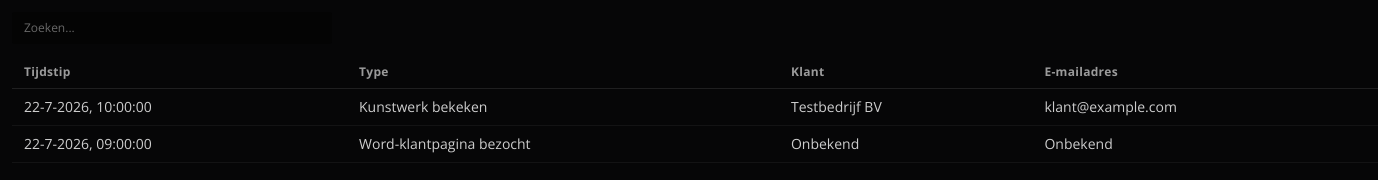
Test case: ActiviteitSection › finds an activiteit by typing its type label in the search box
In the field with test id "data-table-search": (172, 28) [12,12,332,44], type "Kunstwerk bekeken"
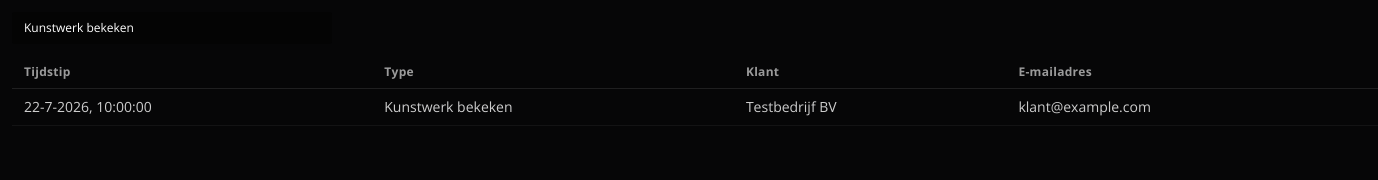
expect the row with test id "data-table-row-log-1" is shown: met, box [12,88,1377,126]
expect the row with test id "data-table-row-log-2" is gone: met
